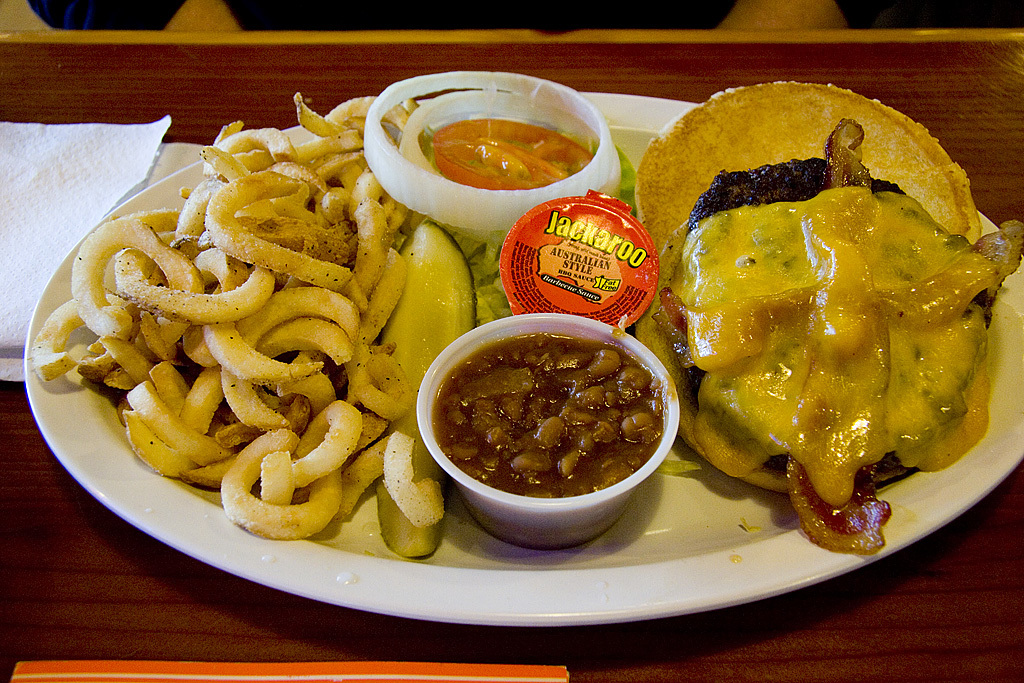French fries: (76, 109, 435, 535)
